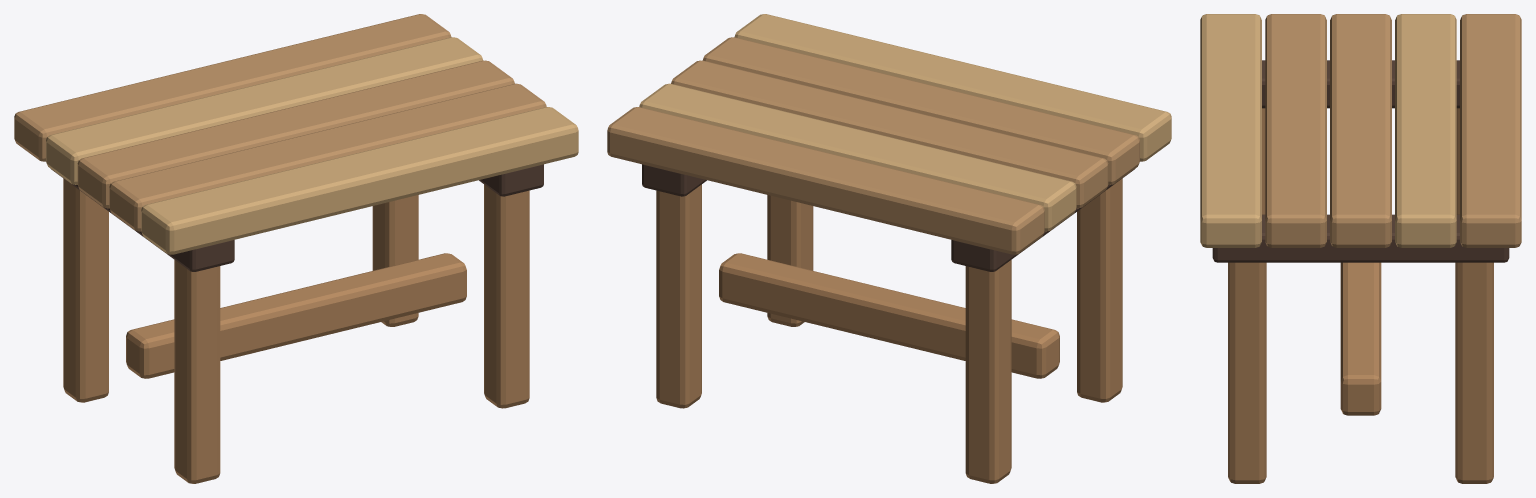
File: table_dining_1_2m.glb
3 renders of one model, left to right at view 1: azimuth 30°, elevation 25°; view 2: azimuth 150°, elevation 25°; view 3: azimuth 270°, elevation 25°, orthographic. The views are drawn at different scales.
Visible parts, largest first — view 1: table_dining_1_2m; view 2: table_dining_1_2m; view 3: table_dining_1_2m.
Part boxes in pixels (left/top/right/bottom): table_dining_1_2m: left=14, top=14, right=578, bottom=483; table_dining_1_2m: left=607, top=14, right=1171, bottom=483; table_dining_1_2m: left=1200, top=14, right=1521, bottom=483.
Bounding box in the file's own units: 1.2 × 0.78 × 0.792.
